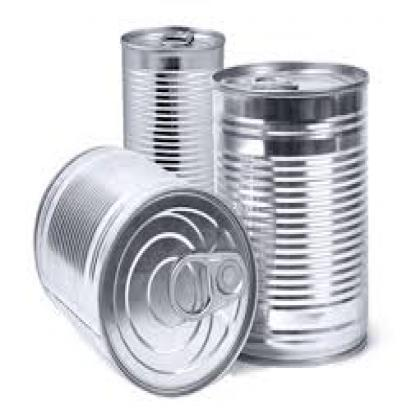METAL: (31, 142, 258, 395), (209, 58, 368, 364), (120, 23, 224, 192)
